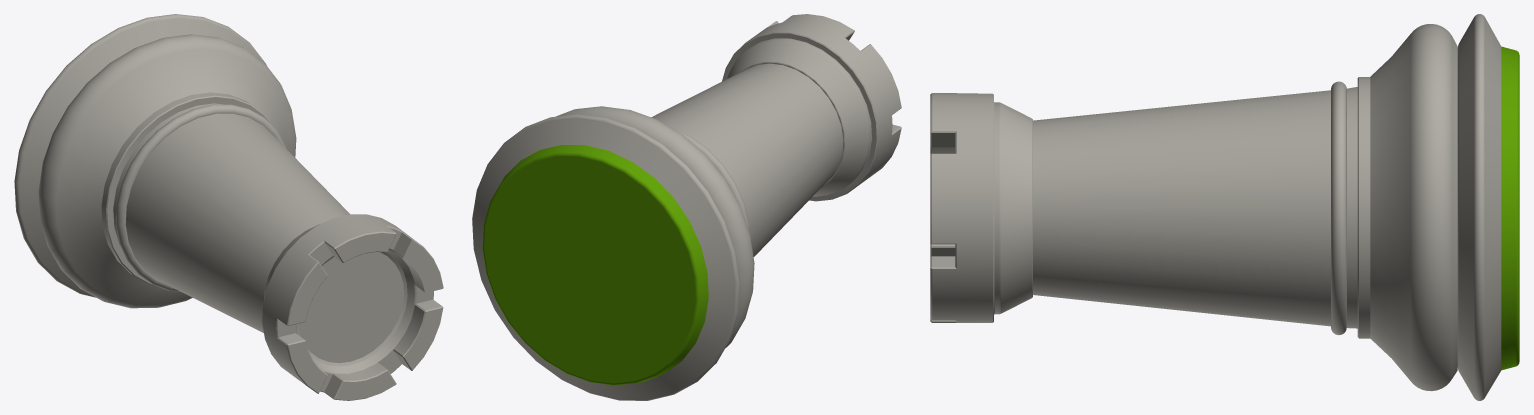
File: rook.glb
The picture shows the model from 3 angles, left to right: view 1: azimuth 30°, elevation 25°; view 2: azimuth 150°, elevation 25°; view 3: azimuth 270°, elevation 25°; orthographic projection. The views are drawn at different scales.
Visible parts, largest first — view 1: rook; view 2: rook, felt; view 3: rook, felt.
Boxes of the visible parts, bbox=[...] form: rook: bbox=[14, 14, 443, 400]; rook: bbox=[472, 14, 901, 400]; felt: bbox=[482, 145, 708, 385]; rook: bbox=[930, 14, 1501, 400]; felt: bbox=[1501, 46, 1519, 370].
Size of the model in its own units: 0.031 by 0.031 by 0.0471.
